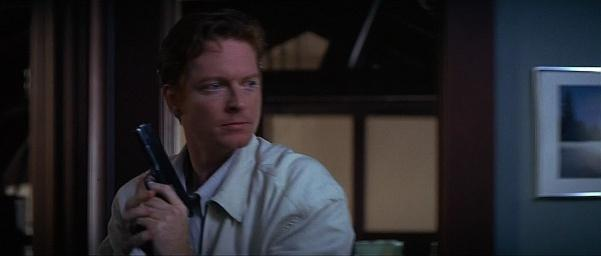Gun: (136, 122, 195, 219)
